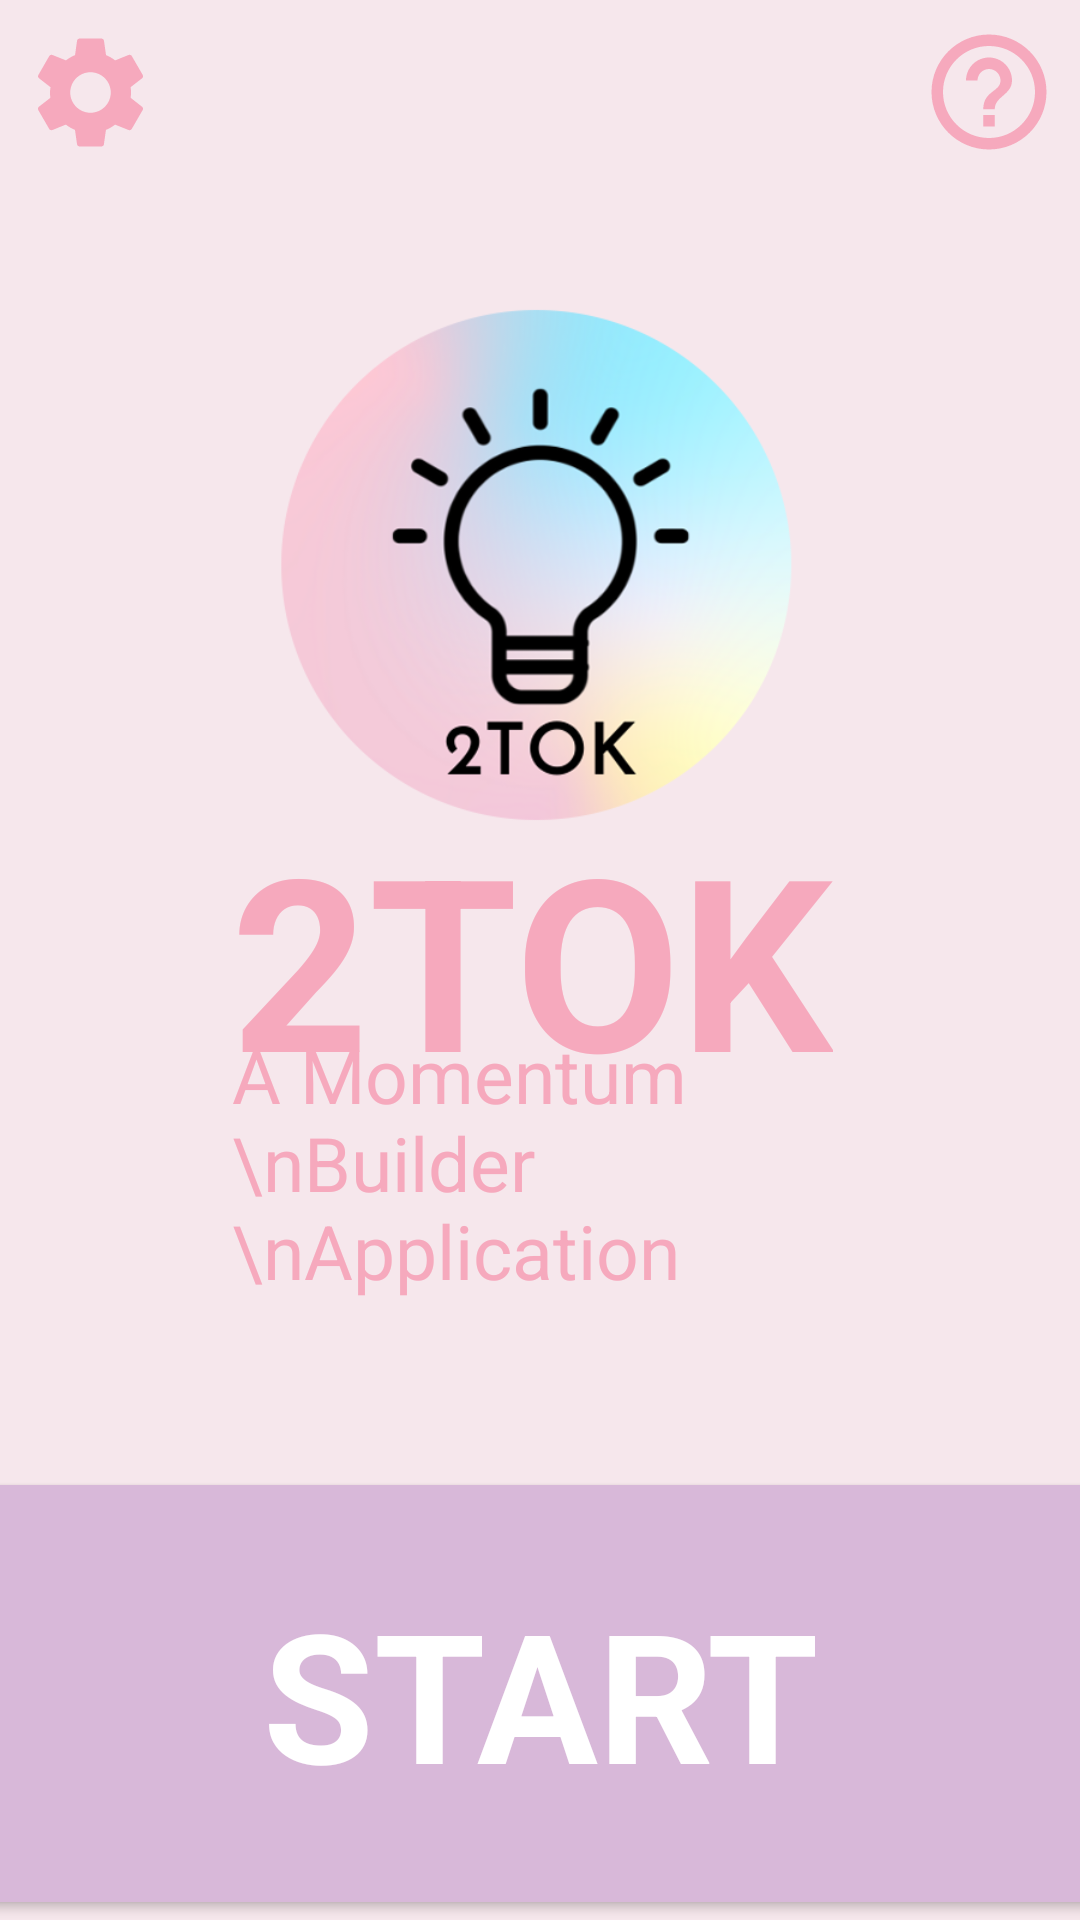

Named icons in this screenshot (1080x1920) and their centers, [x,y]:
info: [989,92]
settings: [90,92]
